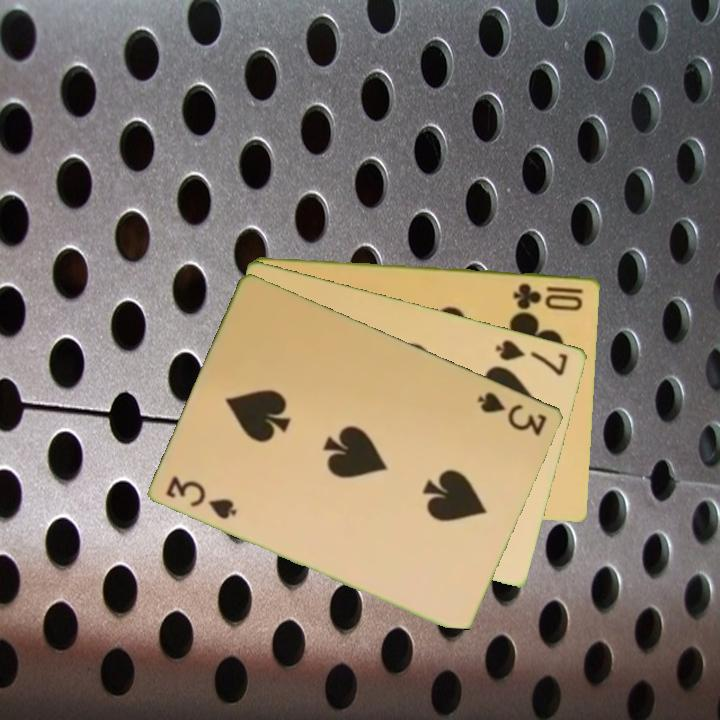10c: (510, 279, 587, 312)
3s: (474, 387, 550, 439), (163, 472, 241, 522)
7s: (492, 335, 571, 379)
